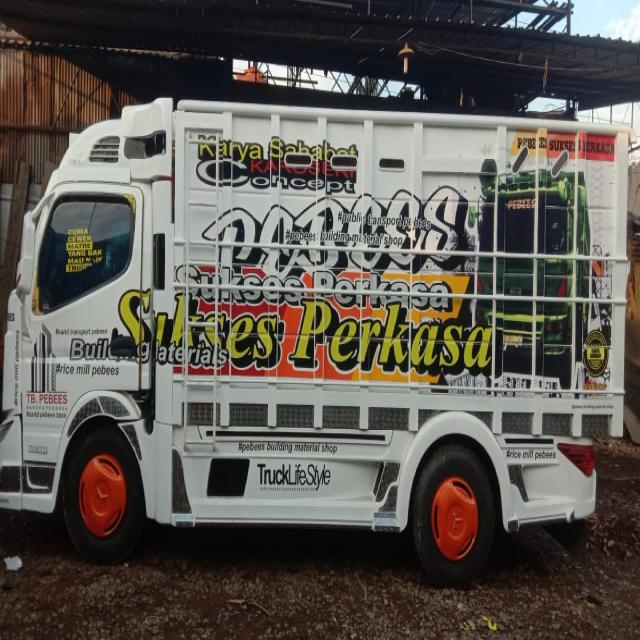truck: (0, 89, 630, 578)
